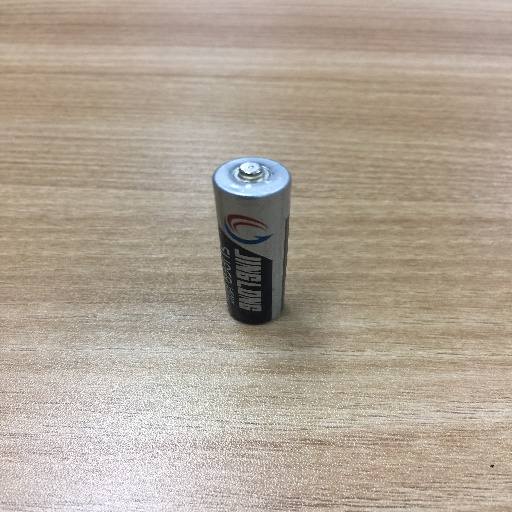Battery_0: (196, 144, 307, 343)
